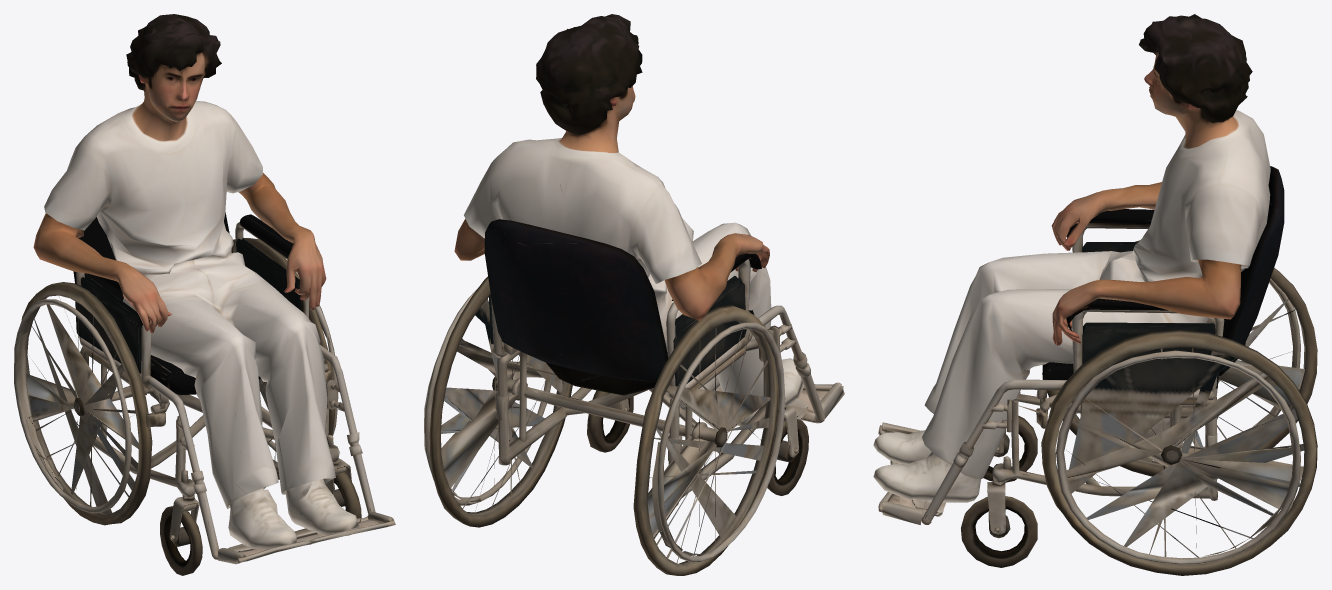
The model's file is Второй колясочник.glb.
3 views of the same model, side by side, from view 1: azimuth 30°, elevation 25°; view 2: azimuth 150°, elevation 25°; view 3: azimuth 270°, elevation 25° (orthographic). The views are drawn at different scales.
Parts seen in each view (by area): view 1: geometry_0; view 2: geometry_0; view 3: geometry_0.
Part boxes in pixels (box(x1,y1,x2,y2)): geometry_0: box(14, 14, 395, 575); geometry_0: box(424, 14, 844, 575); geometry_0: box(873, 14, 1317, 575).
Size of the model in its own units: 0.4912 by 0.9517 by 0.752.
Materials: 1 (1 with a texture image).
